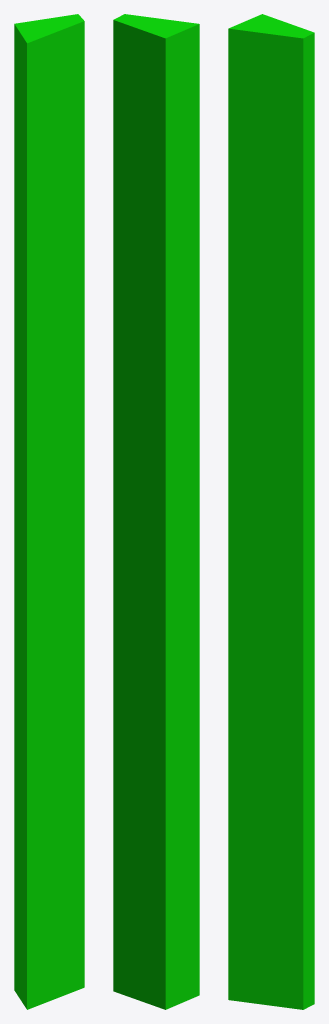
3 views of the same model, side by side, from view 1: azimuth 30°, elevation 25°; view 2: azimuth 150°, elevation 25°; view 3: azimuth 330°, elevation 25° (orthographic).
Visible parts, largest first — view 1: Plane.015; view 2: Plane.015; view 3: Plane.015.
Boxes of the visible parts, x1,y1,x2,y2 form: Plane.015: [14, 14, 84, 1009]; Plane.015: [113, 14, 199, 1009]; Plane.015: [228, 14, 314, 1009].
Size of the model in its own units: 800 by 10789 by 472.
